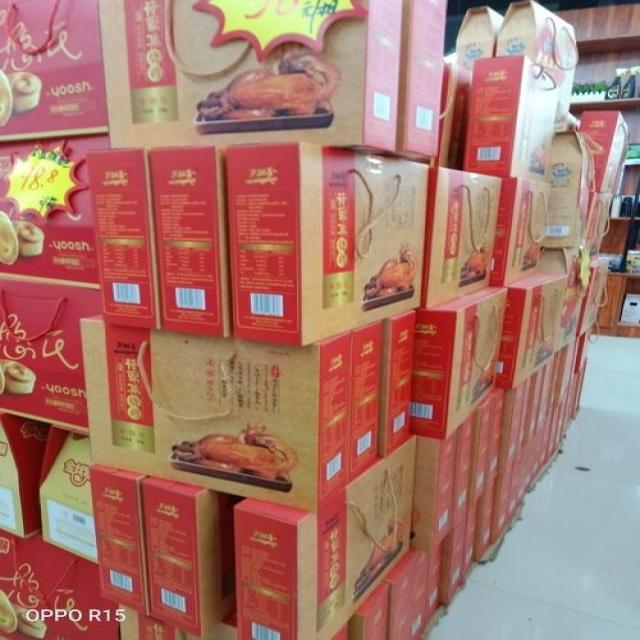box: (81, 311, 350, 514), (99, 0, 403, 151), (223, 145, 432, 347), (231, 434, 417, 639), (145, 145, 235, 338), (140, 476, 246, 638), (2, 136, 114, 288), (0, 274, 105, 435), (1, 1, 111, 143), (411, 286, 509, 440), (88, 146, 159, 329), (0, 530, 120, 637), (465, 55, 561, 183), (420, 168, 503, 310), (93, 463, 151, 616), (41, 424, 101, 565), (499, 272, 570, 391), (399, 1, 450, 163), (490, 177, 551, 287), (0, 410, 52, 538), (412, 426, 460, 552), (380, 307, 420, 457), (349, 319, 384, 485), (441, 65, 474, 173), (453, 408, 476, 531), (468, 393, 491, 515), (487, 385, 506, 492)
